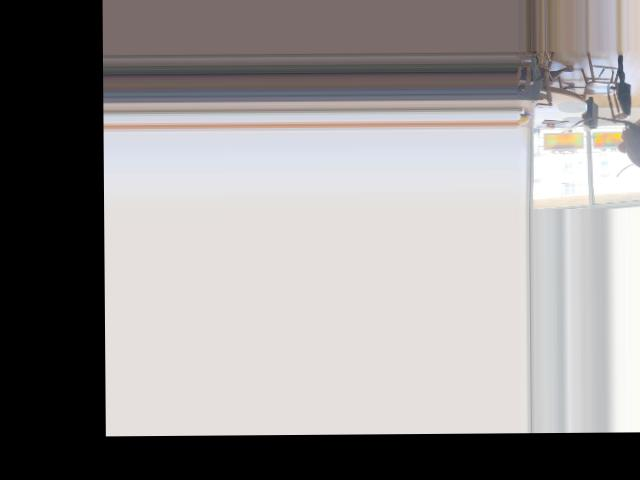beet: (571, 116, 640, 176)
